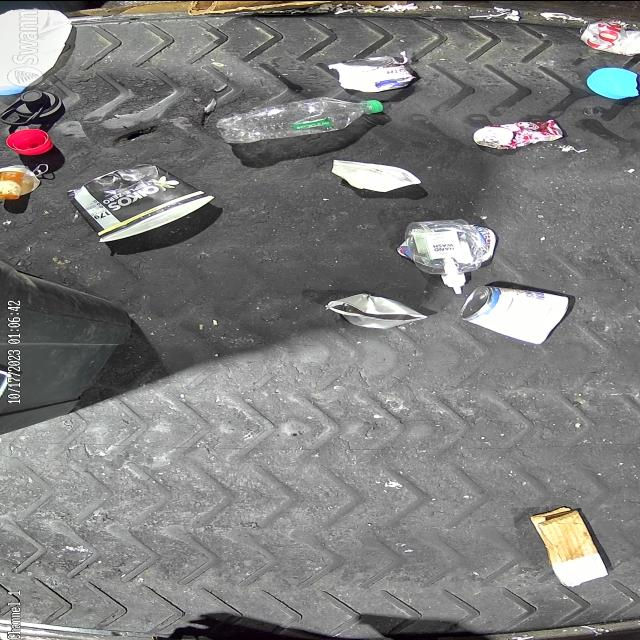can: (458, 283, 570, 345), (324, 292, 428, 328), (472, 117, 564, 149), (335, 57, 413, 91), (577, 16, 640, 54)
milk_jug: (0, 8, 72, 94)
plastic_bottle: (215, 96, 384, 142)
